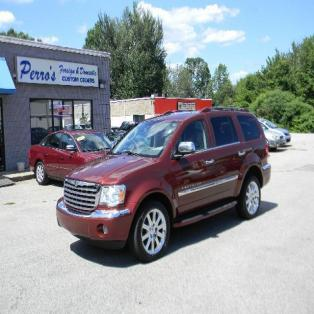Auto: (56, 110, 271, 264)
